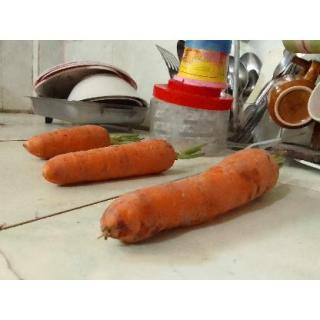Wortel: (14, 115, 293, 239)
